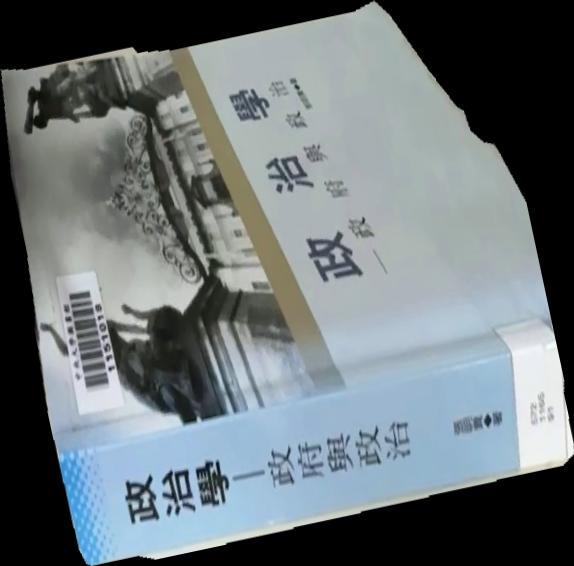flat: (1, 1, 574, 566)
